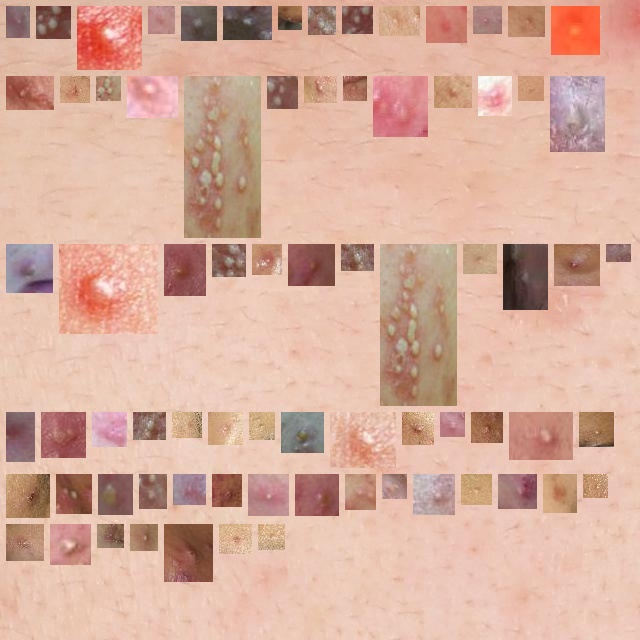pustule: (192, 84, 253, 230), (388, 252, 449, 398), (67, 252, 150, 326), (85, 14, 134, 62), (558, 84, 597, 144), (338, 420, 388, 460), (381, 84, 420, 129), (517, 420, 565, 452), (511, 252, 540, 302), (172, 532, 205, 574), (559, 14, 592, 47), (14, 252, 45, 285), (172, 252, 198, 288), (135, 84, 170, 110), (49, 420, 78, 450), (296, 252, 327, 278), (14, 482, 42, 510), (562, 252, 592, 278), (303, 482, 331, 508), (6, 420, 27, 454), (289, 420, 316, 445), (256, 482, 281, 508), (421, 482, 447, 507), (58, 532, 83, 557), (231, 14, 264, 32), (14, 84, 46, 102), (434, 14, 459, 35), (104, 482, 125, 507), (64, 482, 84, 506), (14, 532, 36, 553), (506, 482, 529, 501), (486, 84, 504, 108), (551, 482, 569, 505), (189, 14, 209, 33), (100, 420, 119, 439), (587, 420, 606, 439), (442, 84, 464, 100), (387, 14, 412, 28), (44, 14, 63, 31), (216, 420, 235, 437), (516, 14, 537, 29), (220, 252, 238, 269), (353, 482, 368, 502), (410, 420, 426, 437), (275, 84, 290, 101), (181, 482, 198, 497), (471, 252, 489, 266), (479, 420, 495, 435), (220, 482, 234, 499), (227, 532, 244, 546), (147, 482, 159, 501), (469, 482, 484, 497), (260, 252, 274, 267), (141, 420, 158, 432), (312, 84, 329, 95), (349, 252, 366, 263), (350, 14, 365, 26), (316, 14, 328, 27), (481, 14, 494, 26), (68, 84, 82, 95), (180, 420, 194, 430), (156, 14, 167, 26), (138, 532, 150, 543), (14, 14, 22, 30), (257, 420, 267, 432), (266, 532, 277, 542), (526, 84, 536, 93), (105, 532, 116, 540), (104, 84, 113, 93), (448, 420, 457, 429), (390, 482, 399, 491), (351, 84, 359, 93), (591, 482, 600, 490), (286, 14, 294, 22)
